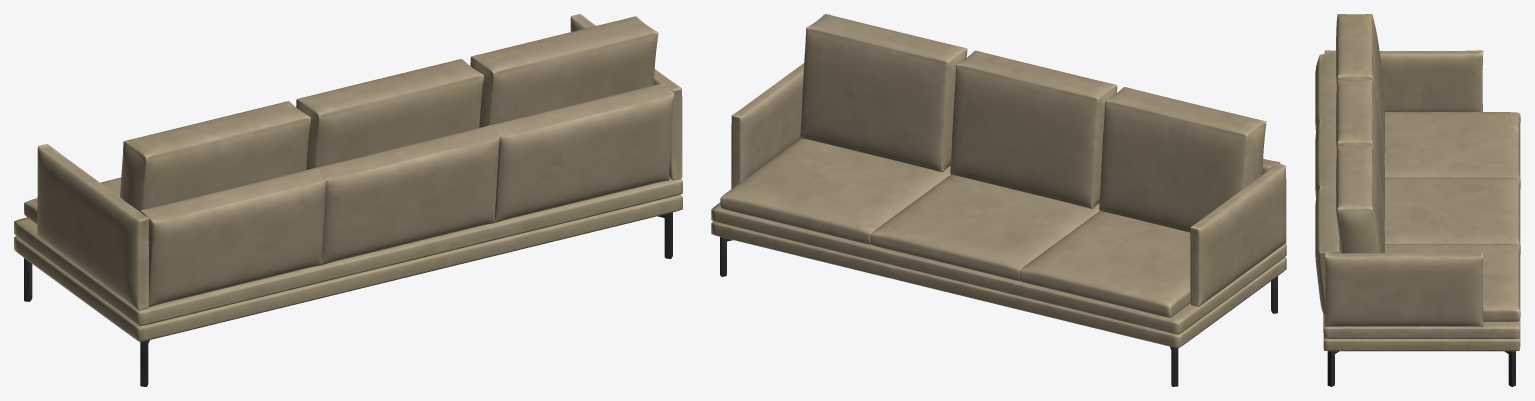
File: Sofa01.glb
The picture shows the model from 3 angles, left to right: view 1: azimuth 30°, elevation 25°; view 2: azimuth 150°, elevation 25°; view 3: azimuth 270°, elevation 25°; orthographic projection. The views are drawn at different scales.
Parts seen in each view (by area): view 1: Sofa01_model; view 2: Sofa01_model; view 3: Sofa01_model.
Part boxes in pixels (x1,y1,x2,y2): Sofa01_model: (14,14,682,386); Sofa01_model: (711,14,1286,386); Sofa01_model: (1315,14,1520,386).
Bounding box in the file's own units: 4.72 × 1.85 × 1.95.
1 material, 1 textured.
